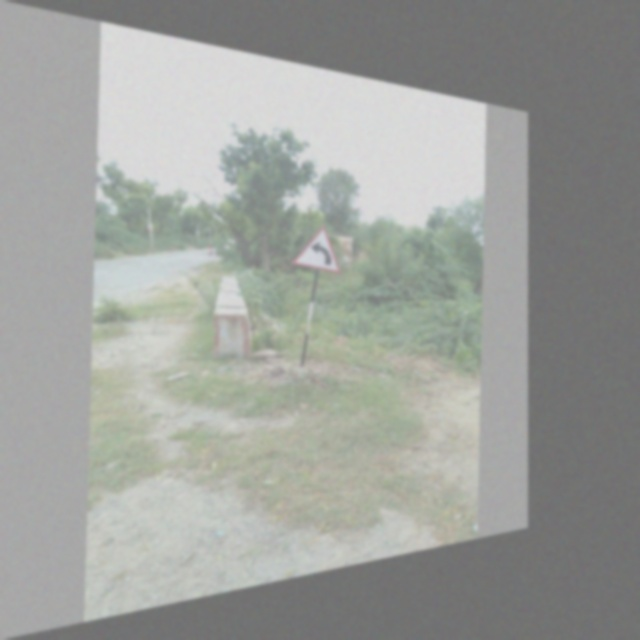Left_Hand_Curve: (290, 221, 345, 278)
